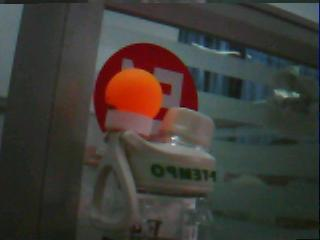oball: (105, 68, 162, 120)
